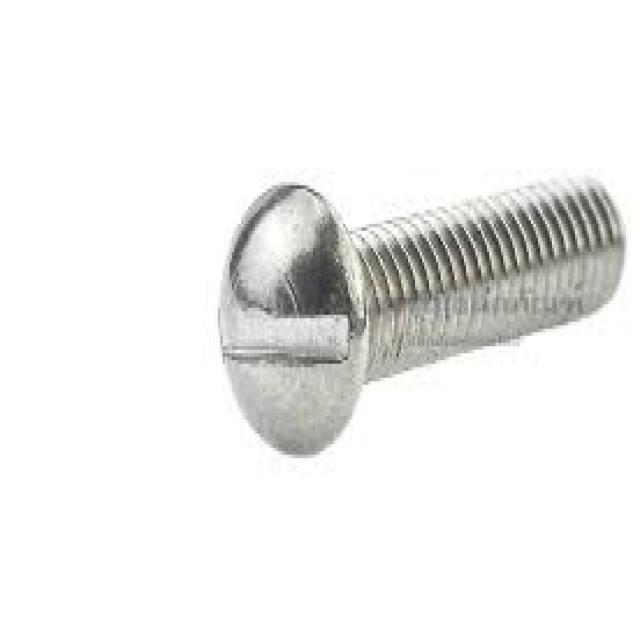Screw: (216, 171, 626, 462)
